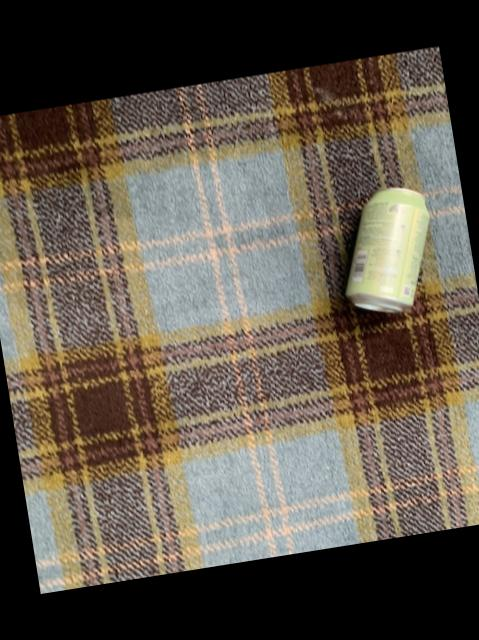metal: (347, 189, 430, 313)
